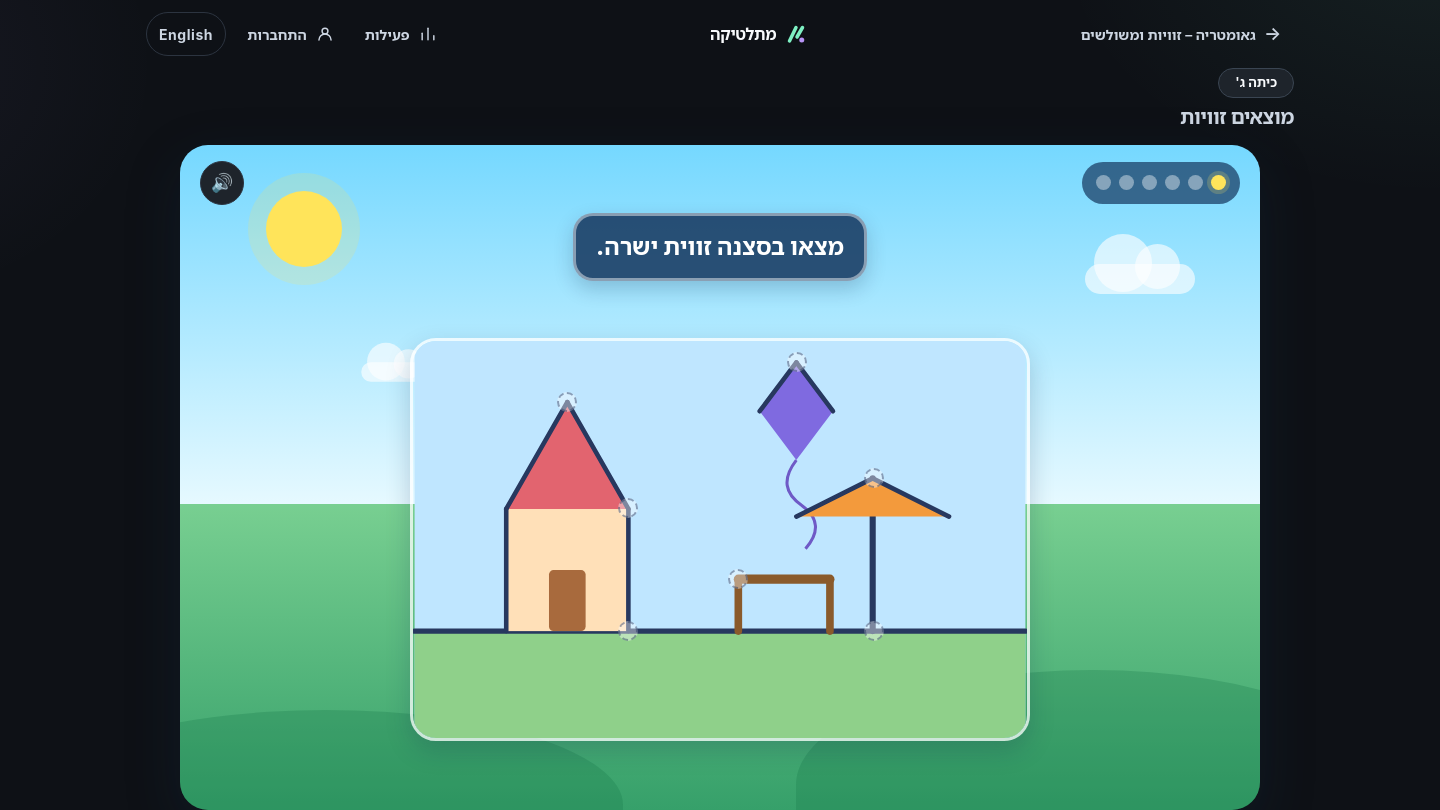
it: Grade 3 geometry unit › hunts angles inside a real scene without revealing them first
The image size is (1440, 810).
Click the 4th button. click: (566, 402)
box: top-left (544, 379), bottom-right (590, 425)
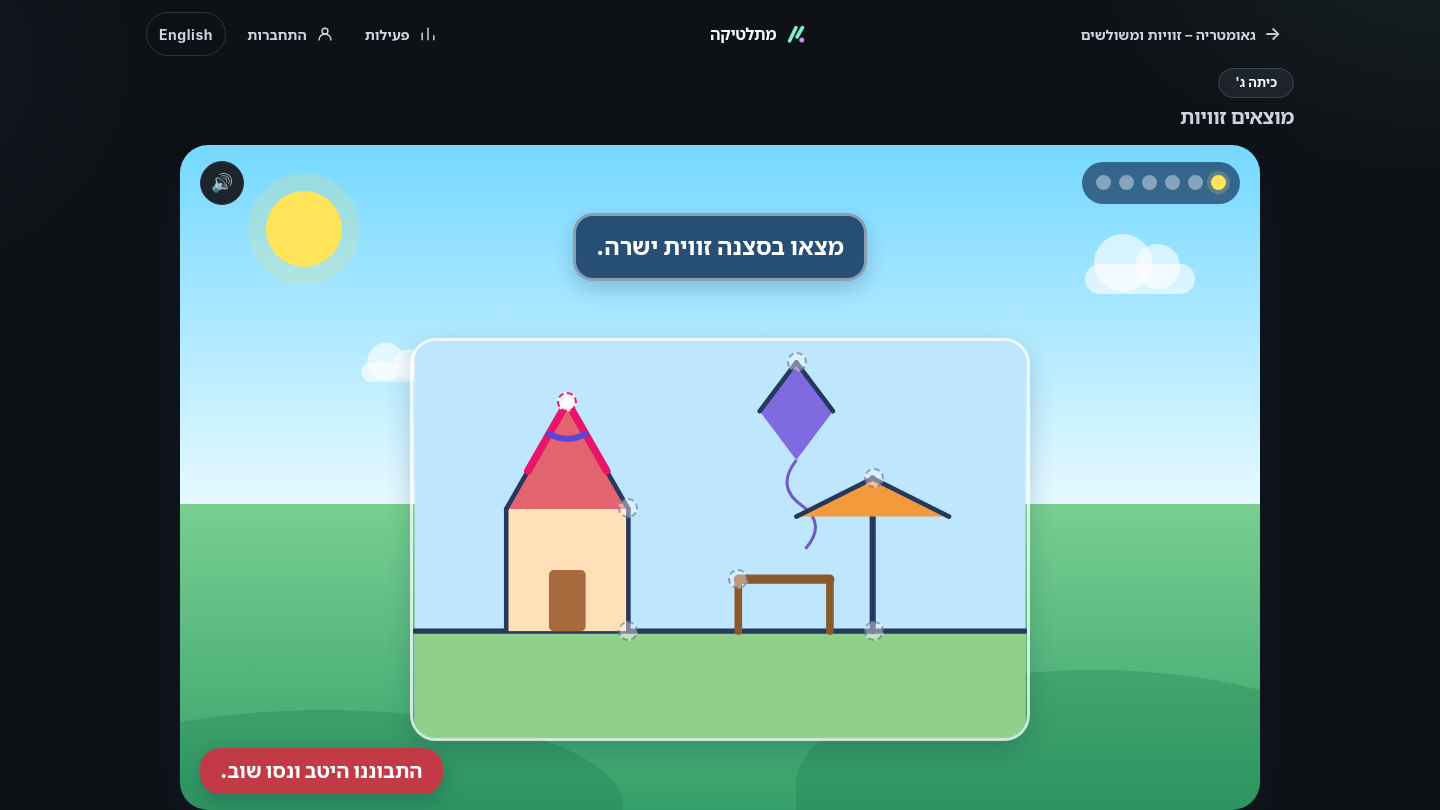
Expected: the element with test id "angle-scene-reveal" is shown, top-left (528, 396), bottom-right (607, 470)
Expected: the message reads "התבוננו היטב ונסו שוב.", top-left (220, 758), bottom-right (422, 782)
Click the 8th button. click: (628, 631)
box: top-left (605, 608), bottom-right (651, 654)
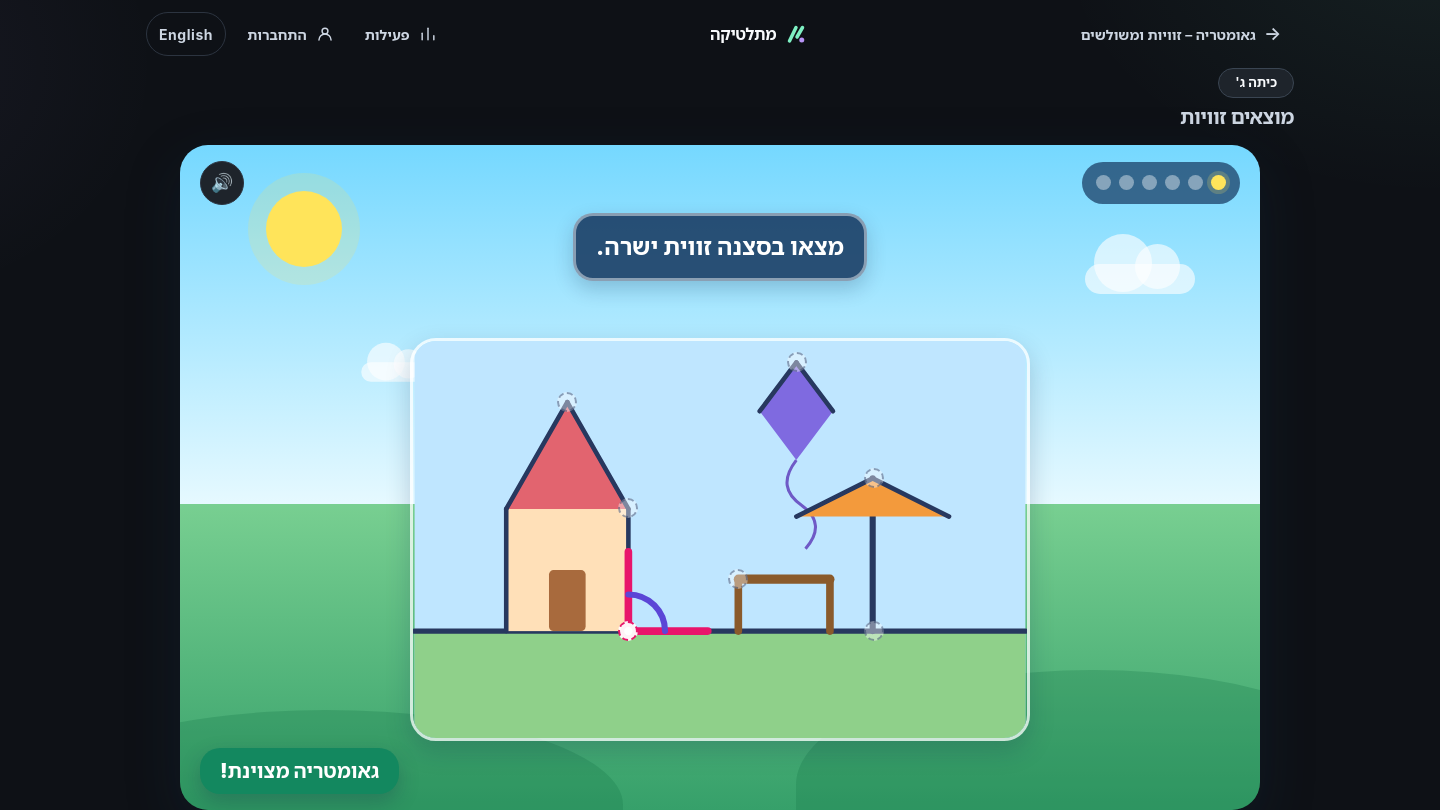
Expected: the message reads "גאומטריה מצוינת!", top-left (220, 758), bottom-right (379, 782)
